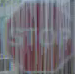Stop: (8, 3, 71, 59)
